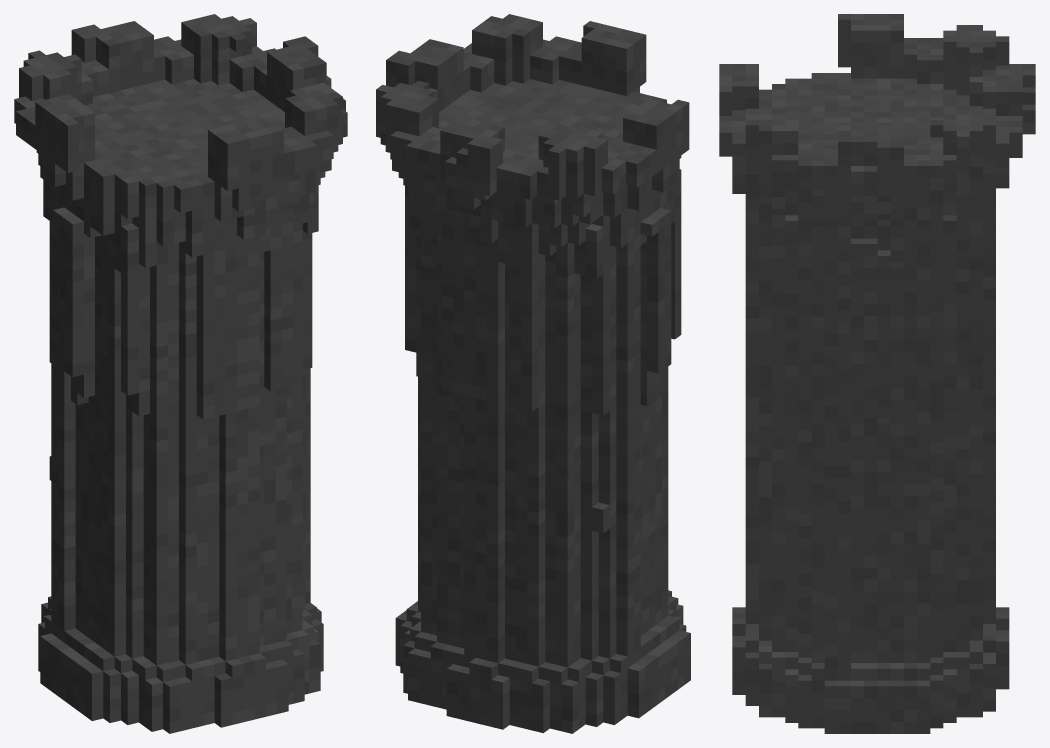
File: Castle_TowerA.obj
3 renders of one model, left to right at view 1: azimuth 30°, elevation 25°; view 2: azimuth 150°, elevation 25°; view 3: azimuth 270°, elevation 25°, orthographic.
Size of the model in its own units: 2.4 by 5 by 2.4.
1 material, 1 textured.
